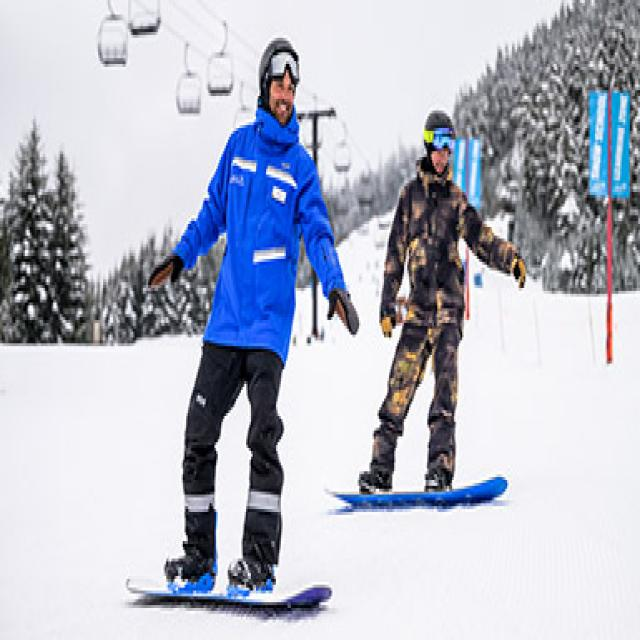snowboarder: (124, 35, 361, 617), (323, 109, 527, 511)
